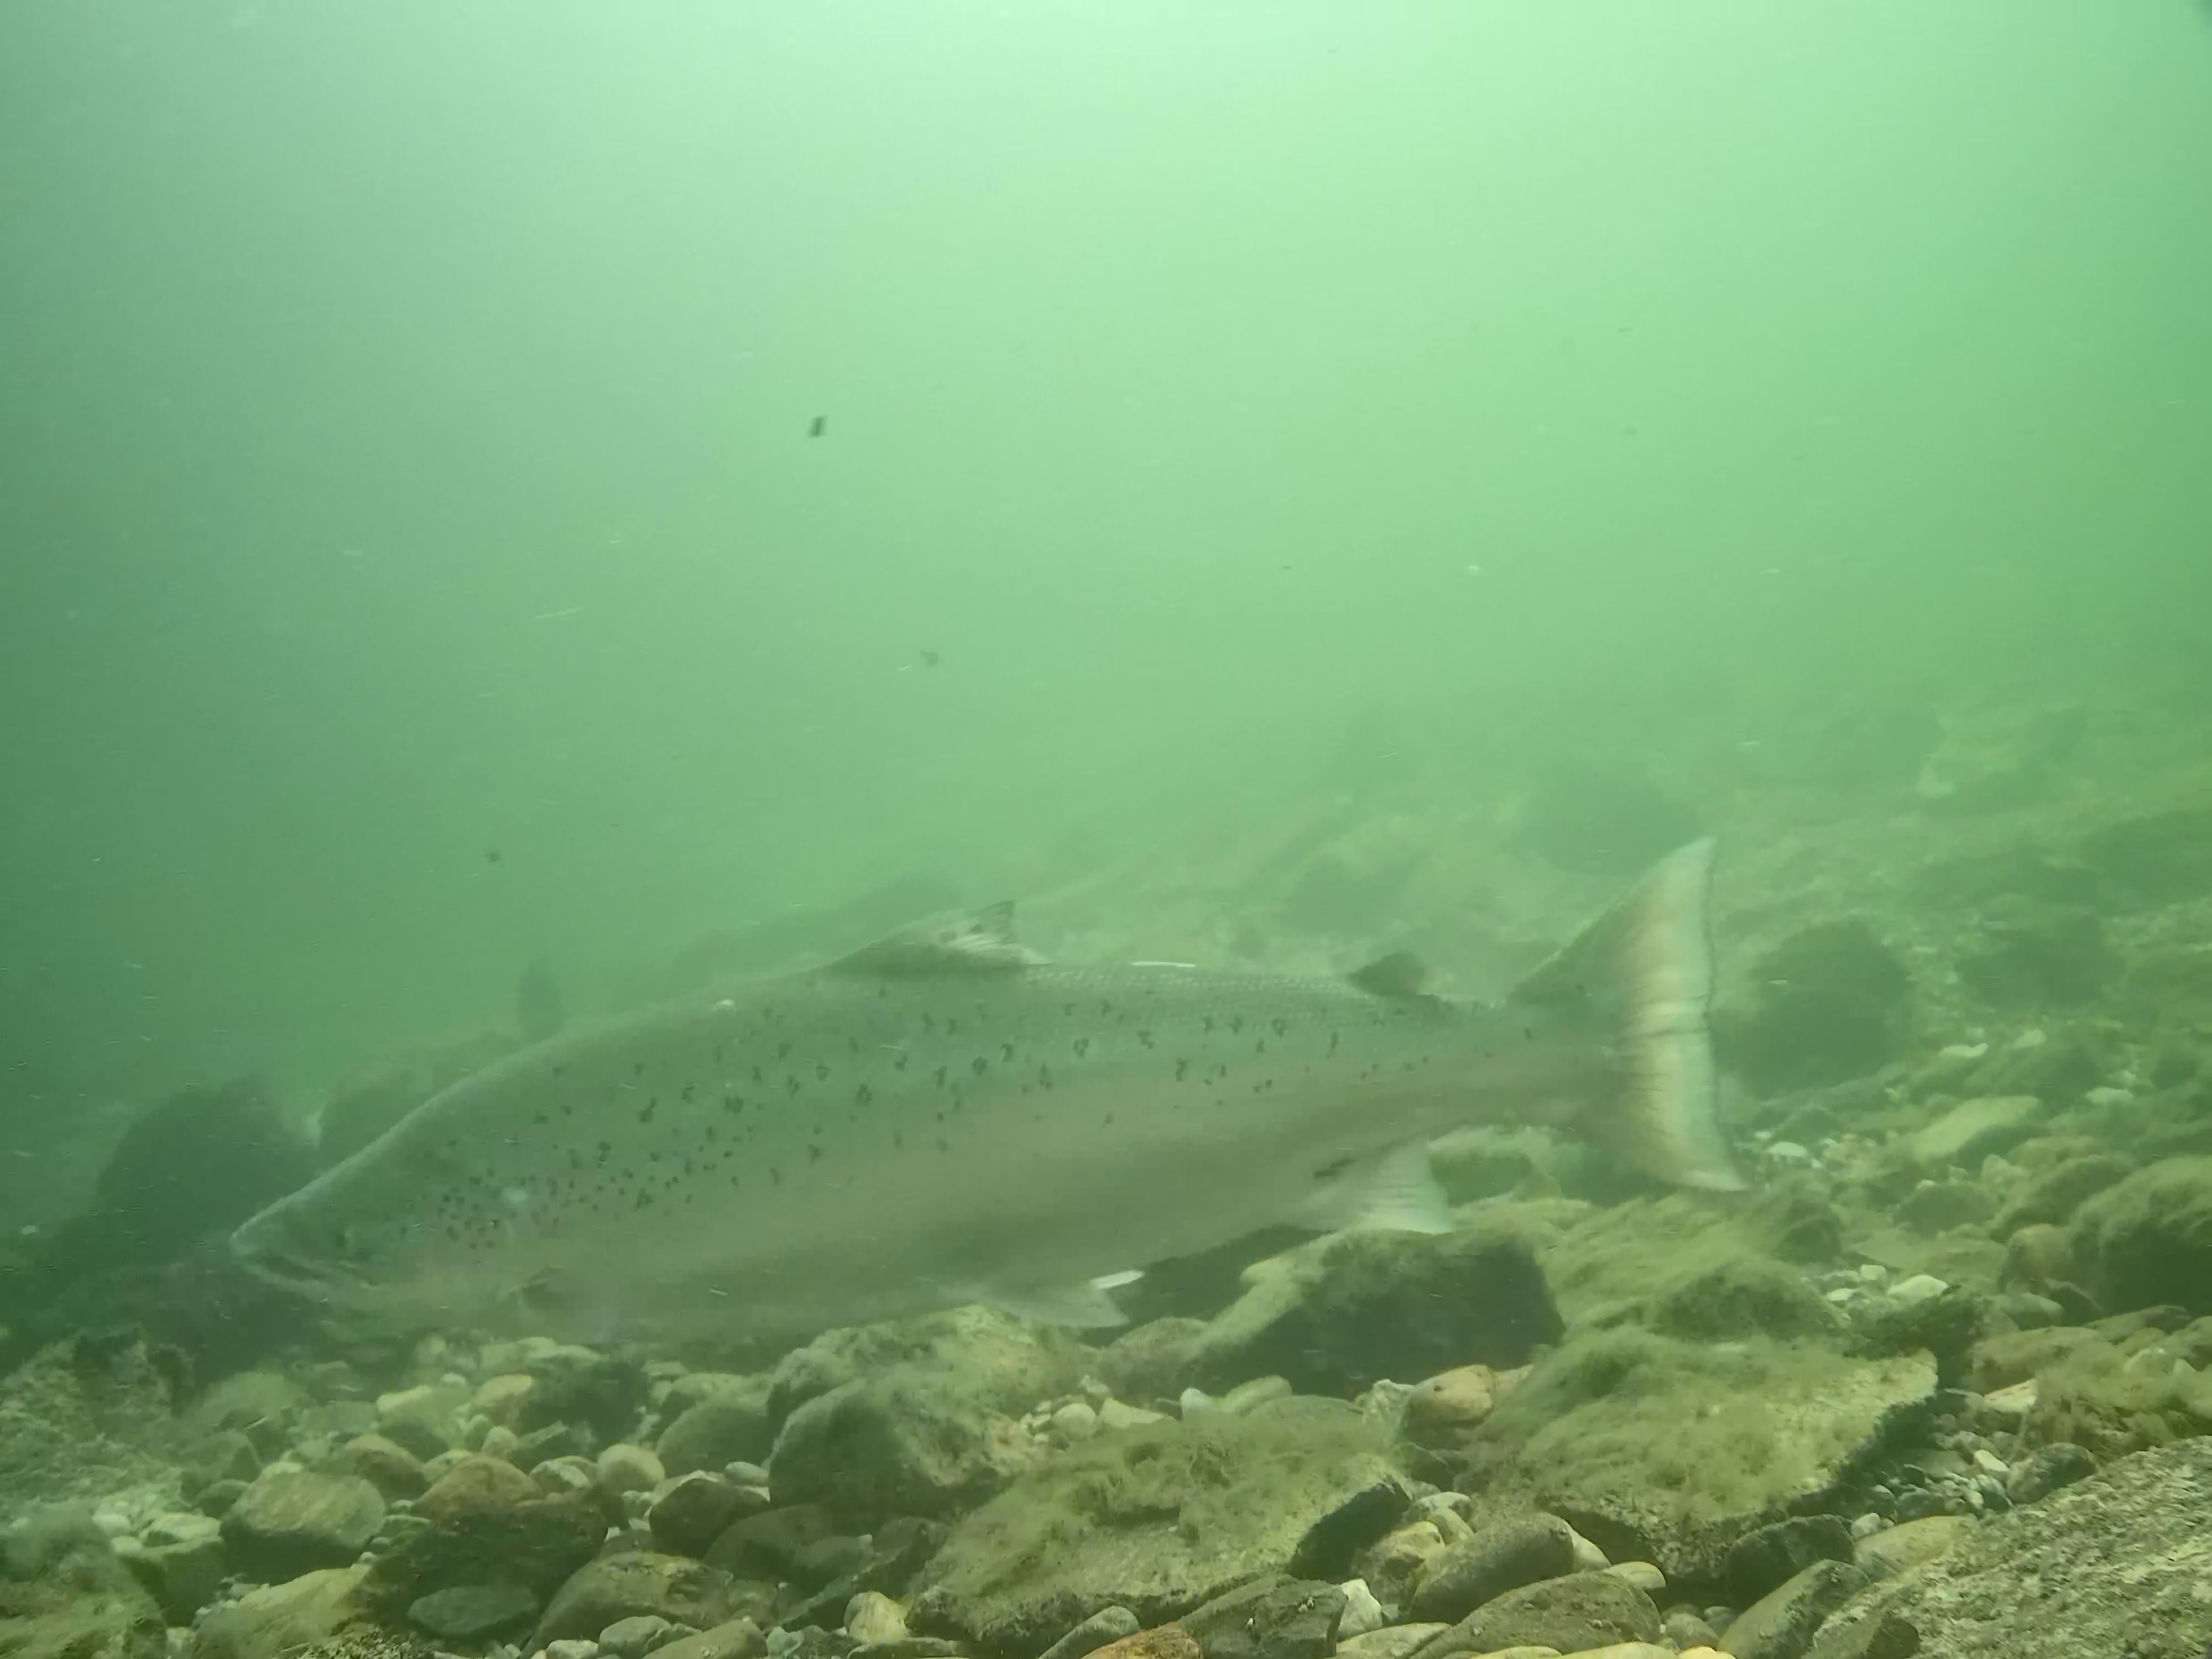salmon: (221, 828, 1750, 1352)
